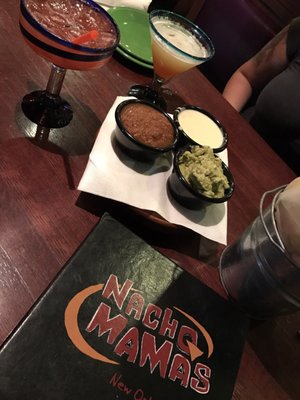pizza: (147, 9, 216, 100)
